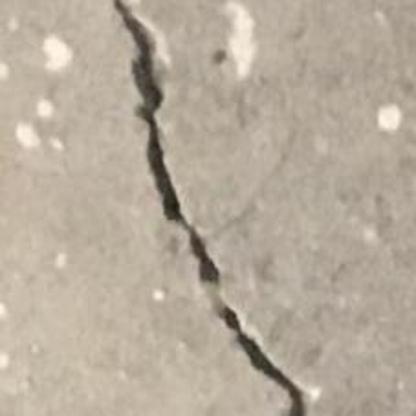SurfaceCrack: (103, 1, 321, 416)
